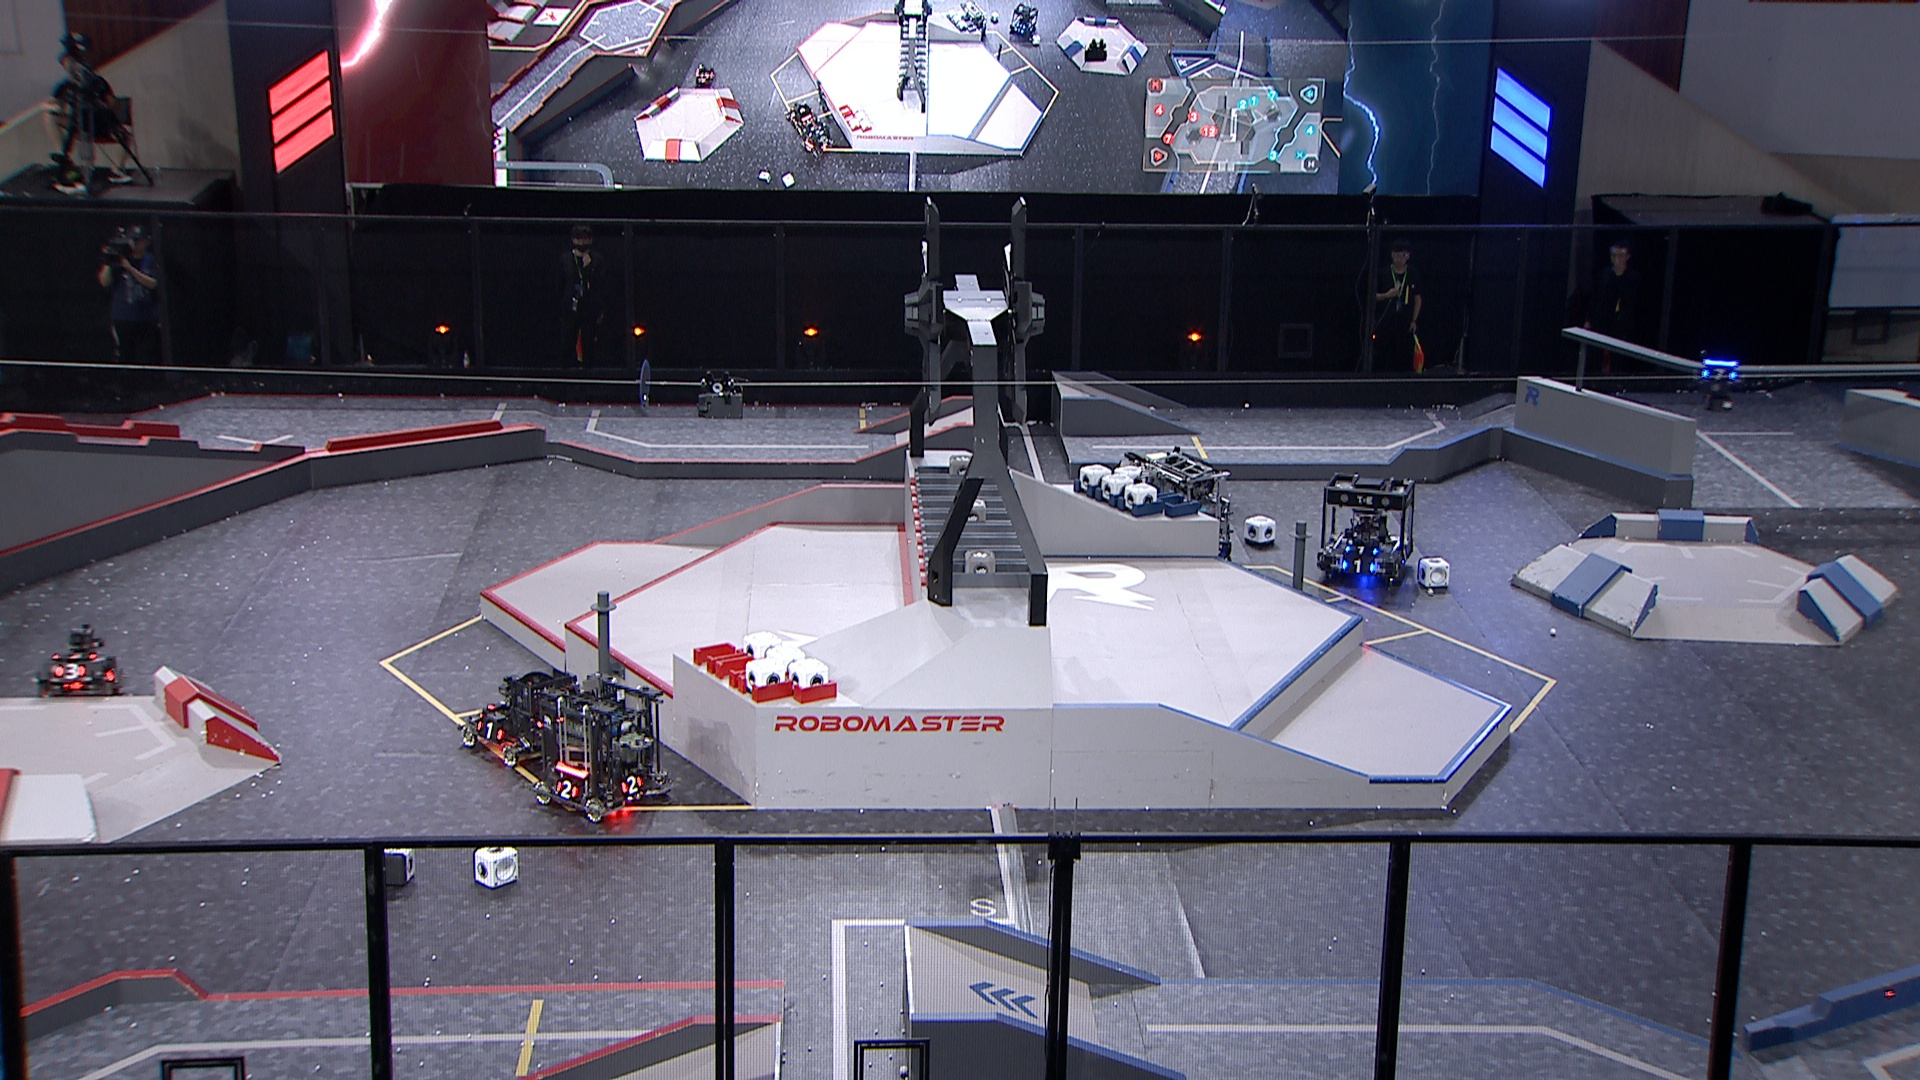armor: (51, 650, 100, 665), (51, 661, 86, 680), (1700, 367, 1738, 384), (1340, 559, 1377, 576), (476, 721, 505, 742), (1342, 543, 1379, 559), (618, 775, 645, 796), (555, 781, 579, 800), (1399, 549, 1411, 568)
car: (531, 673, 674, 823), (455, 669, 582, 769), (1133, 452, 1237, 574), (1316, 472, 1418, 585), (32, 621, 129, 699)
ignore: (959, 0, 992, 40), (1007, 3, 1040, 40), (802, 120, 832, 157), (785, 104, 814, 133), (692, 61, 716, 90)
watcher: (1698, 357, 1743, 411)
